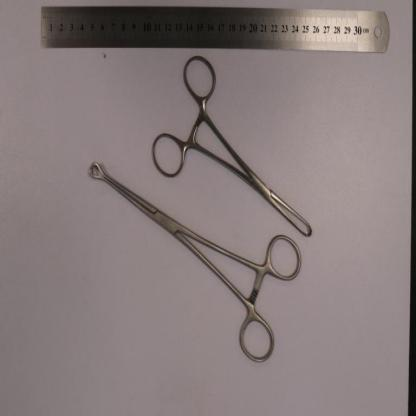8 Babcock Tissue Forceps: (87, 157, 304, 366)
Allis Tissue Forceps: (151, 53, 314, 240)
